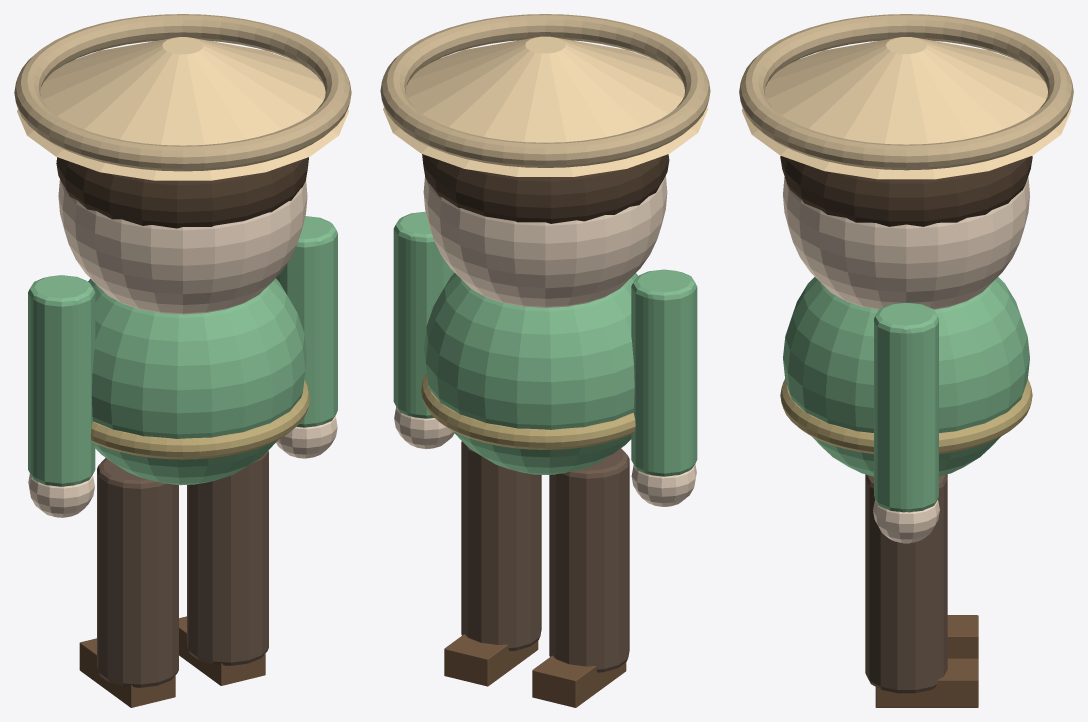
Rendered from chibi_green.glb.
3 views of the same model, side by side, from view 1: azimuth 30°, elevation 25°; view 2: azimuth 150°, elevation 25°; view 3: azimuth 270°, elevation 25° (orthographic). The views are drawn at different scales.
Parts seen in each view (by area): view 1: chibi_green; view 2: chibi_green; view 3: chibi_green.
Part boxes in pixels (x1,y1,x2,y2): chibi_green: (14,14,351,707); chibi_green: (380,14,710,707); chibi_green: (739,14,1073,707).
Size of the model in its own units: 0.6667 by 1.35 by 0.65.
